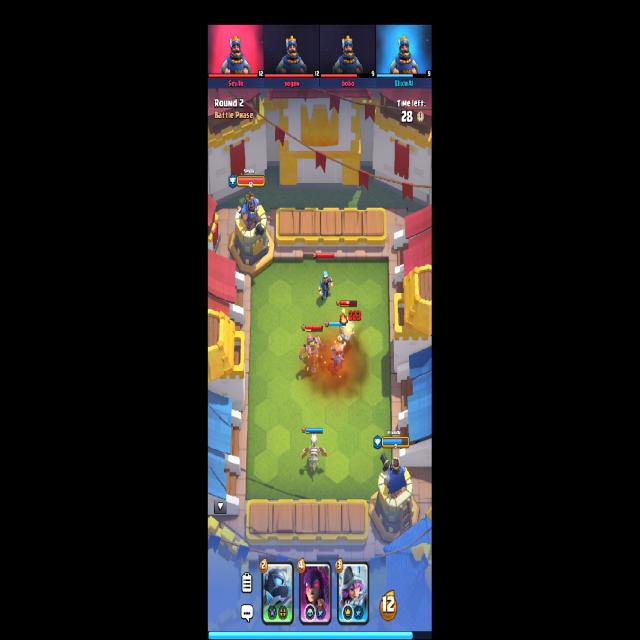card_mini_pekka: (262, 560, 294, 625)
card_musketeer: (338, 560, 369, 624)
card_witch: (299, 559, 331, 627)
goblin_machine: (300, 333, 324, 372)
prince: (330, 334, 350, 374)
royal_ghost: (339, 312, 355, 349)
skeleton_dragon: (302, 433, 327, 470)
wizard: (320, 271, 334, 303)
